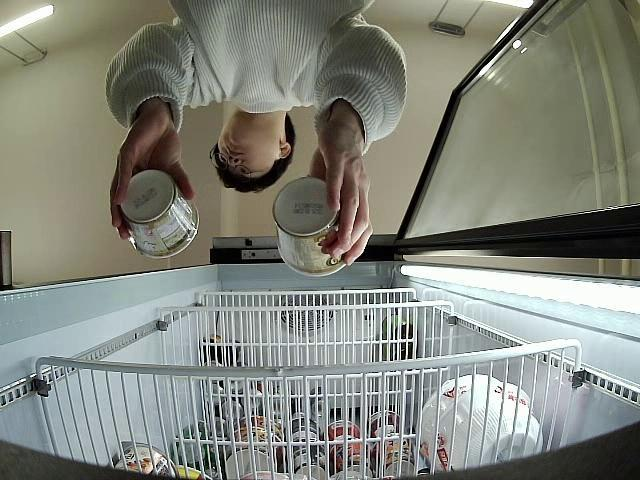04_chapagetti_S: (272, 177, 348, 276), (118, 170, 200, 259)
